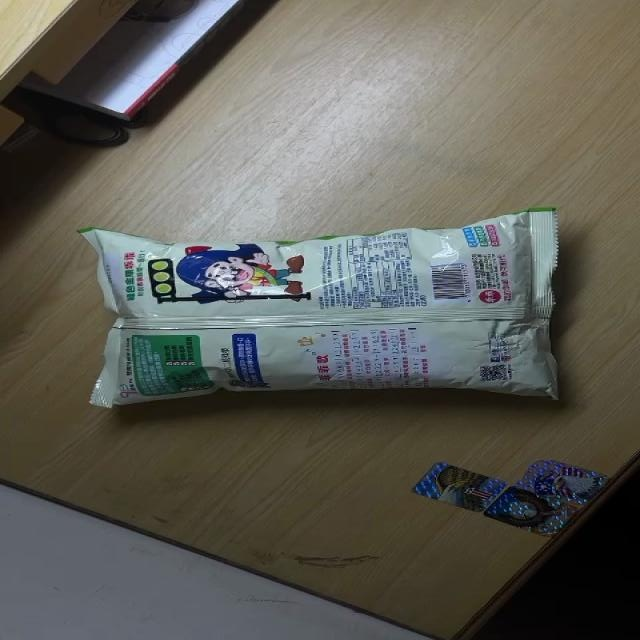Good-Luck: (77, 207, 564, 410)
